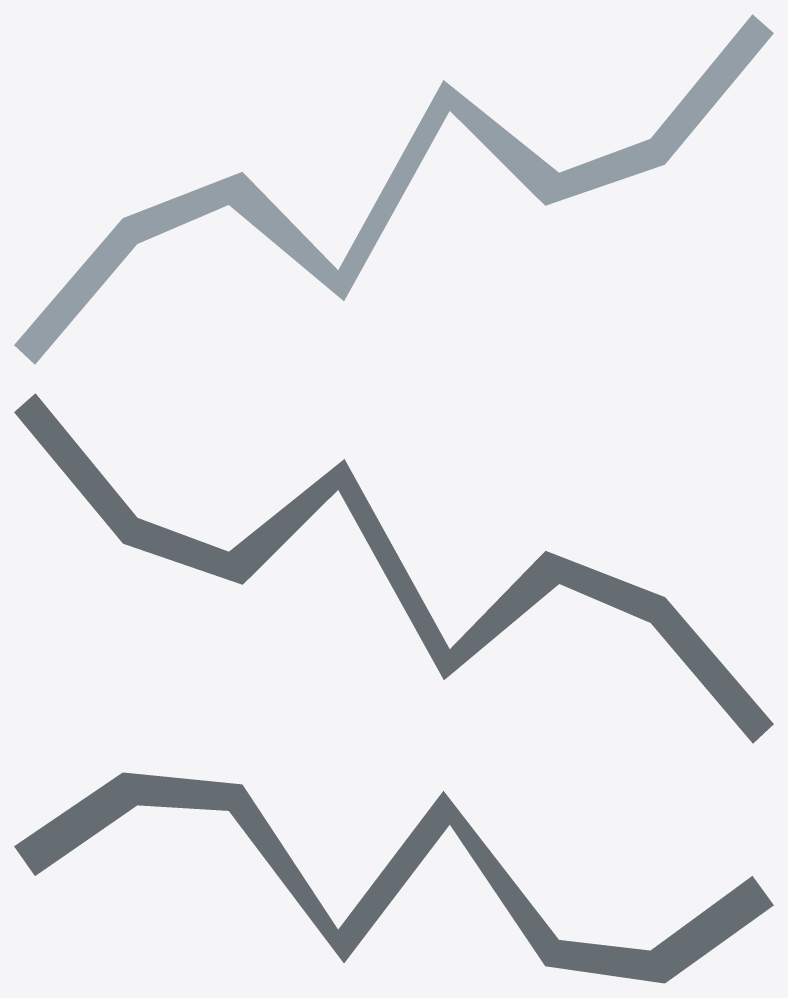
File: 2045_PotionThrow_Overall_GroundArc23.fbx
3 views of the same model, one above another, from view 1: azimuth 30°, elevation 25°; view 2: azimuth 150°, elevation 25°; view 3: azimuth 330°, elevation 25° (orthographic).
Visible parts, largest first — view 1: PART_GroundArc23; view 2: PART_GroundArc23; view 3: PART_GroundArc23.
Part boxes in pixels (x1=…): PART_GroundArc23: x1=14, y1=14, x2=773, y2=364; PART_GroundArc23: x1=14, y1=393, x2=773, y2=743; PART_GroundArc23: x1=14, y1=772, x2=773, y2=983.
Size of the model in its own units: 72.02 by 17.85 by 2.91e-06.
